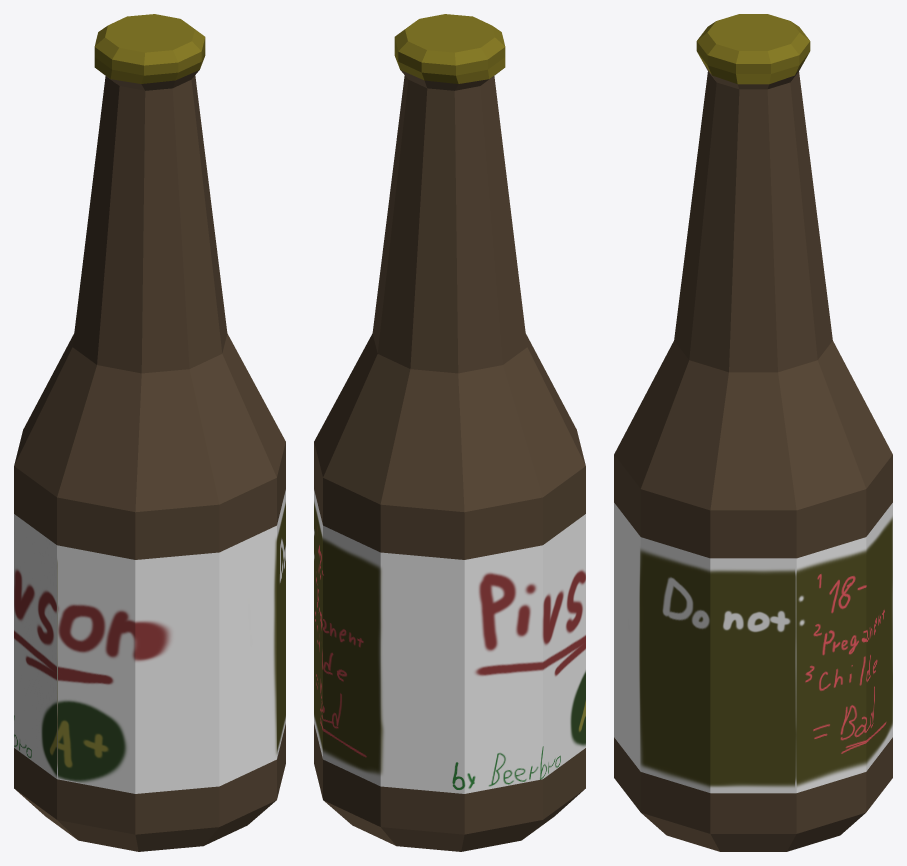
The model's file is Beer.fbx.
3 renders of one model, left to right at view 1: azimuth 30°, elevation 25°; view 2: azimuth 150°, elevation 25°; view 3: azimuth 270°, elevation 25°, orthographic.
Parts seen in each view (by area): view 1: Model; view 2: Model; view 3: Model.
Boxes of the visible parts, <box> form: Model: <box>14,14,285,851</box>; Model: <box>314,14,585,851</box>; Model: <box>614,14,892,851</box>.
Size of the model in its own units: 0.1437 by 0.4641 by 0.1511.
